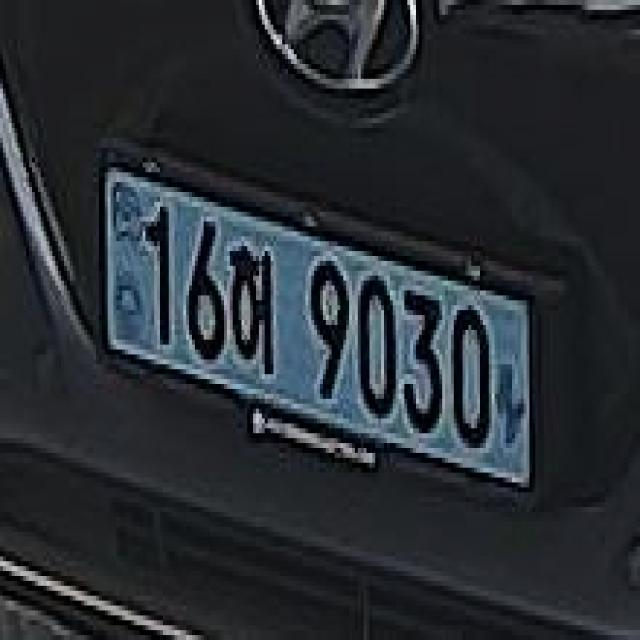EV_plate: (91, 136, 541, 510)
